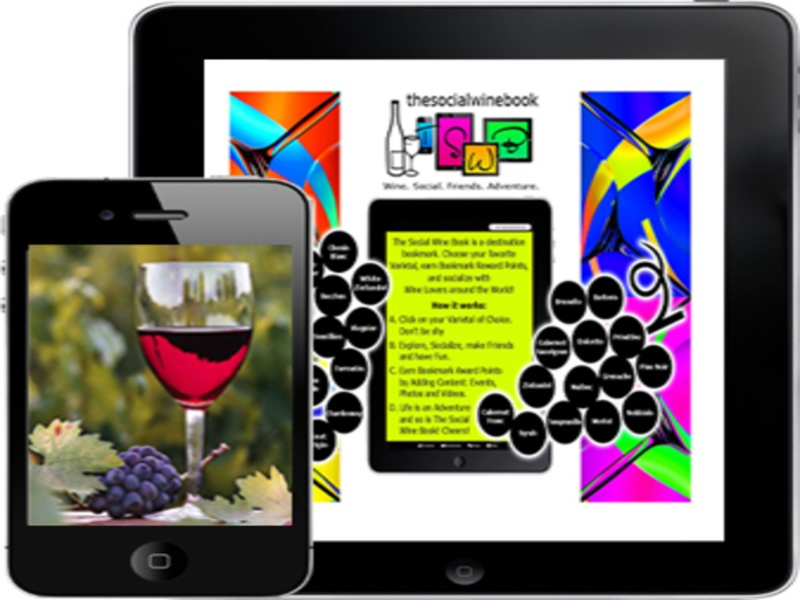cellphone: (1, 173, 315, 600)
